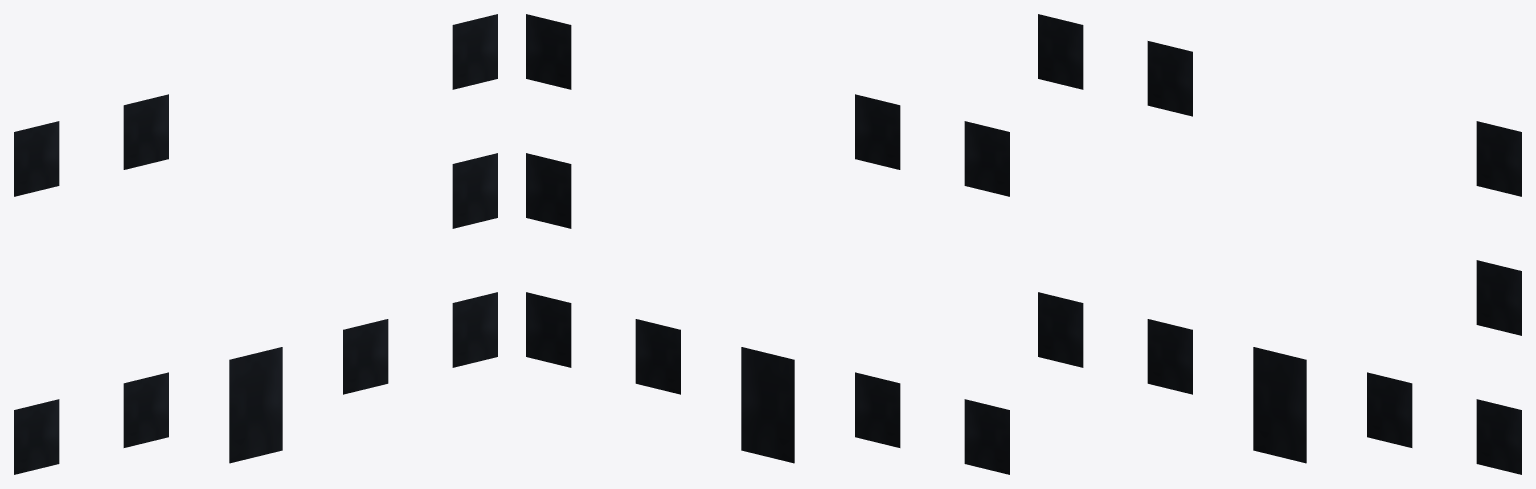
Rendered from Street_BlockR3_Glass.obj.
3 views of the same model, side by side, from view 1: azimuth 30°, elevation 25°; view 2: azimuth 150°, elevation 25°; view 3: azimuth 330°, elevation 25° (orthographic).
Size of the model in its own units: 11.47 by 8.7 by 0.
Materials: 1 (1 with a texture image).
